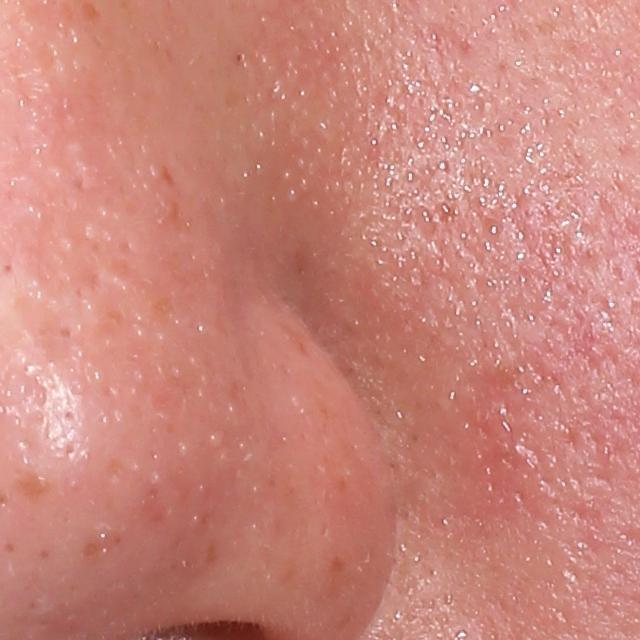melasma: (12, 465, 57, 500)
